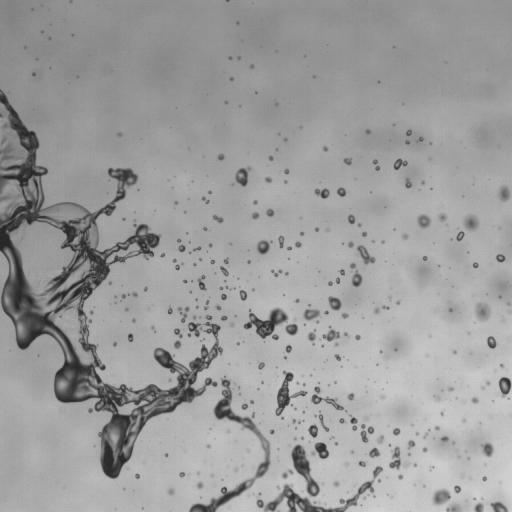droplet: (256, 444, 383, 511), (243, 307, 298, 340), (275, 371, 306, 415), (432, 489, 461, 511), (389, 446, 408, 469), (235, 166, 251, 186), (474, 303, 490, 321), (311, 442, 328, 458), (321, 327, 340, 341), (498, 377, 511, 397), (360, 424, 374, 442), (303, 306, 320, 320), (464, 214, 478, 230), (498, 186, 511, 201), (481, 442, 494, 457), (177, 306, 189, 322), (417, 214, 430, 228), (257, 240, 270, 254), (328, 296, 341, 310), (490, 501, 508, 511), (351, 271, 362, 286), (314, 188, 329, 198), (393, 159, 407, 169), (308, 424, 317, 438), (486, 336, 496, 348), (368, 447, 380, 457), (307, 330, 315, 344), (474, 501, 483, 511), (336, 187, 345, 196), (239, 290, 247, 300), (271, 269, 282, 276), (456, 231, 464, 240), (496, 254, 505, 262), (220, 267, 228, 276), (213, 215, 223, 222), (438, 213, 446, 221), (348, 214, 355, 223), (405, 178, 411, 188), (266, 209, 274, 216), (376, 435, 383, 443), (408, 440, 415, 448), (454, 485, 461, 493), (344, 158, 351, 165), (178, 244, 185, 251), (347, 393, 354, 400), (393, 428, 400, 435), (252, 212, 258, 219), (285, 345, 291, 352), (258, 362, 264, 369), (128, 333, 133, 341), (441, 436, 449, 441), (218, 154, 224, 160), (295, 241, 301, 247), (221, 315, 227, 321), (472, 397, 478, 403), (241, 403, 247, 409), (168, 488, 174, 494), (341, 313, 348, 318), (358, 461, 365, 466), (406, 129, 411, 135), (265, 177, 271, 182), (402, 234, 408, 239), (348, 241, 353, 247), (175, 264, 180, 270), (339, 269, 344, 275), (221, 293, 226, 299), (216, 304, 221, 310), (374, 307, 379, 313), (335, 354, 340, 360), (339, 418, 345, 423), (197, 482, 202, 488), (350, 263, 355, 268), (473, 262, 478, 267), (422, 447, 427, 452), (179, 472, 184, 477), (398, 474, 403, 479), (334, 481, 339, 486), (382, 305, 388, 309), (168, 307, 172, 313), (434, 396, 440, 400), (418, 137, 423, 141), (323, 146, 327, 151), (224, 258, 228, 263), (132, 292, 137, 296), (344, 332, 348, 337), (355, 335, 360, 339), (448, 387, 453, 391), (270, 429, 274, 434), (482, 476, 486, 481), (405, 140, 409, 144), (269, 156, 273, 160), (284, 169, 288, 173), (253, 200, 257, 204), (362, 232, 366, 236), (287, 246, 291, 250), (423, 256, 427, 260), (328, 281, 332, 285), (230, 322, 234, 326), (334, 342, 338, 346), (486, 381, 490, 385), (435, 426, 439, 430), (135, 474, 139, 478), (366, 129, 369, 133), (118, 132, 121, 136), (161, 253, 164, 257), (211, 260, 214, 264), (336, 278, 339, 282), (183, 280, 187, 283), (225, 286, 229, 289), (122, 294, 125, 298), (295, 299, 299, 302), (324, 311, 328, 314), (413, 463, 416, 467), (250, 65, 253, 68), (230, 77, 233, 80), (358, 223, 361, 226), (315, 228, 318, 231), (177, 239, 180, 242), (209, 244, 212, 247), (173, 259, 176, 262), (144, 287, 147, 290), (151, 326, 154, 329), (500, 364, 503, 367), (250, 400, 253, 403), (207, 444, 210, 447), (345, 462, 348, 465), (422, 181, 424, 184), (208, 191, 211, 193), (175, 201, 177, 204), (204, 227, 206, 230), (301, 232, 303, 235), (108, 282, 111, 284), (220, 286, 222, 289), (396, 301, 399, 303), (507, 303, 510, 305), (90, 311, 93, 313), (132, 319, 135, 321), (113, 343, 116, 345), (453, 351, 456, 353), (440, 412, 443, 414), (416, 432, 418, 435), (335, 442, 337, 445), (165, 453, 167, 456), (430, 467, 433, 469), (326, 229, 328, 231), (193, 316, 195, 318), (201, 338, 203, 340), (284, 356, 286, 358), (303, 383, 305, 385), (294, 407, 296, 409), (365, 417, 367, 419), (462, 419, 464, 421), (331, 436, 333, 438)
ligament: (0, 89, 222, 478), (188, 377, 270, 511), (310, 385, 343, 410), (357, 245, 375, 264), (316, 413, 328, 431), (174, 328, 182, 349), (197, 275, 206, 290), (350, 415, 357, 430), (373, 159, 379, 170), (278, 236, 283, 247), (292, 419, 302, 423), (202, 197, 208, 203), (204, 300, 208, 309), (423, 431, 428, 437), (193, 246, 200, 250), (69, 0, 72, 1)
